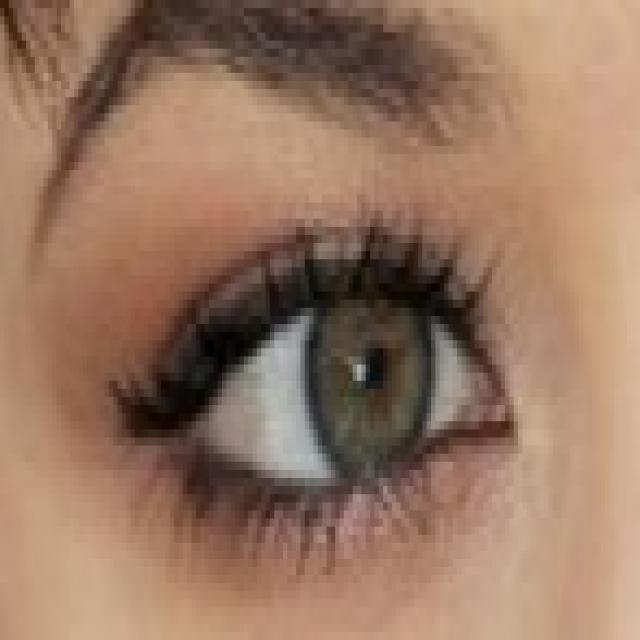Normal: (309, 255, 430, 484)
